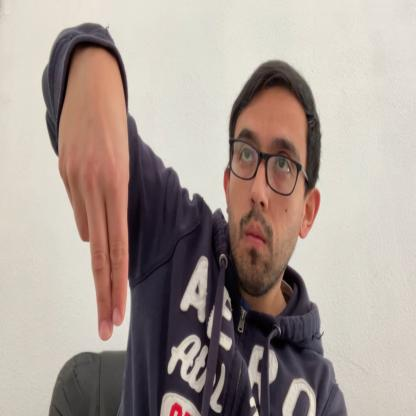N: (58, 64, 129, 340)
